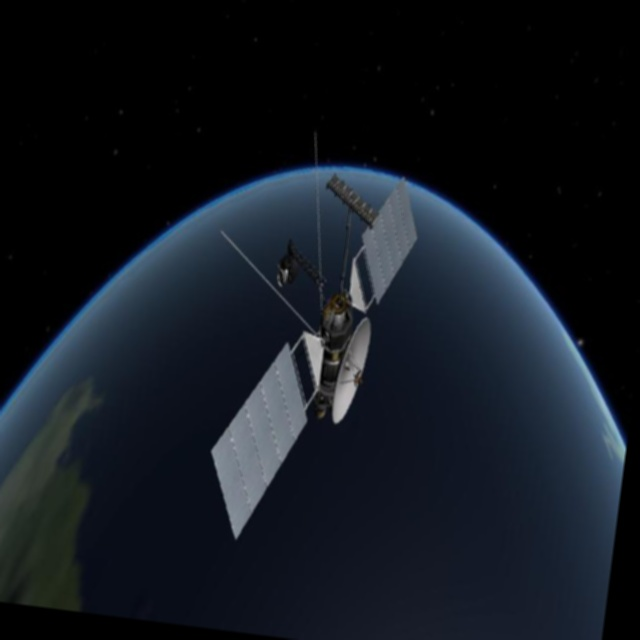medium_debris: (157, 110, 451, 593)
